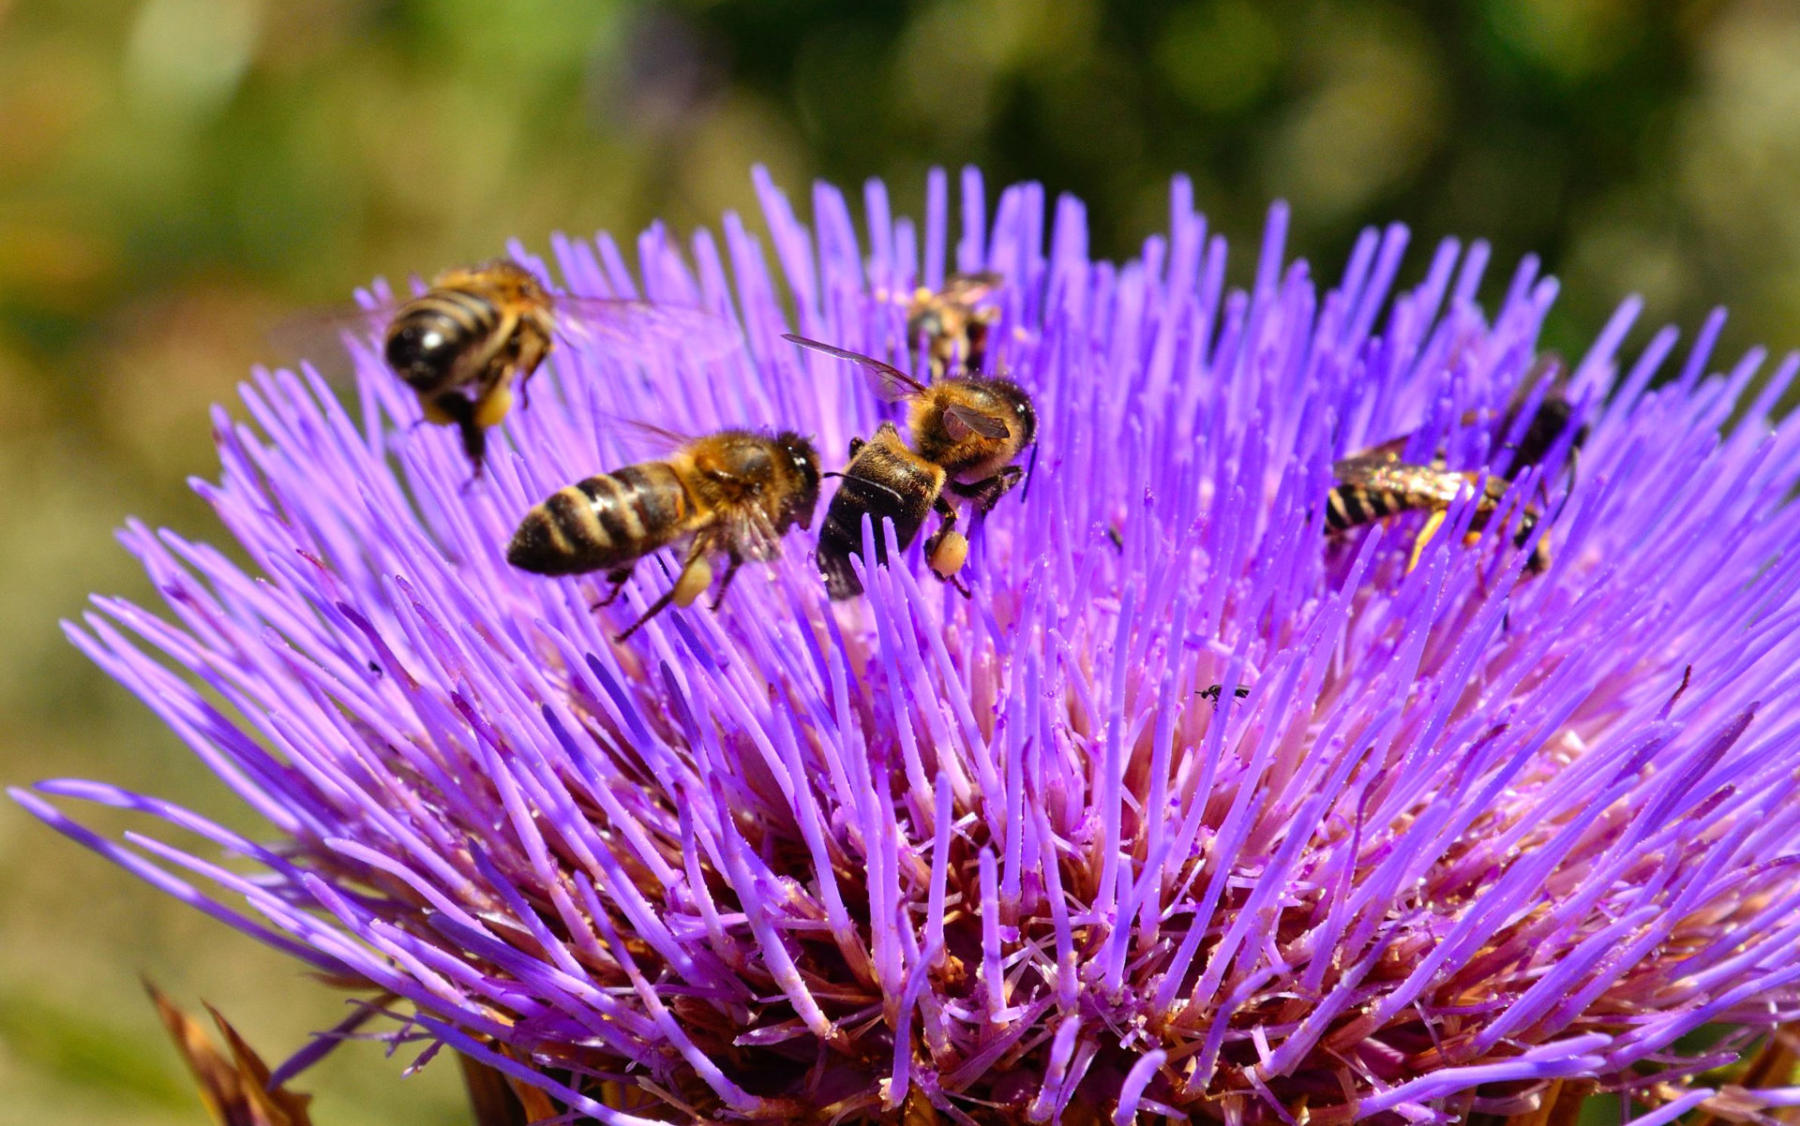thistle: (182, 161, 1790, 1126)
